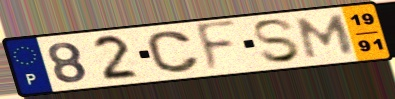2: (91, 33, 143, 83)
8: (46, 41, 90, 84)
C: (145, 29, 203, 75)
F: (194, 18, 241, 76)
M: (295, 13, 357, 61)
S: (250, 17, 304, 65)
